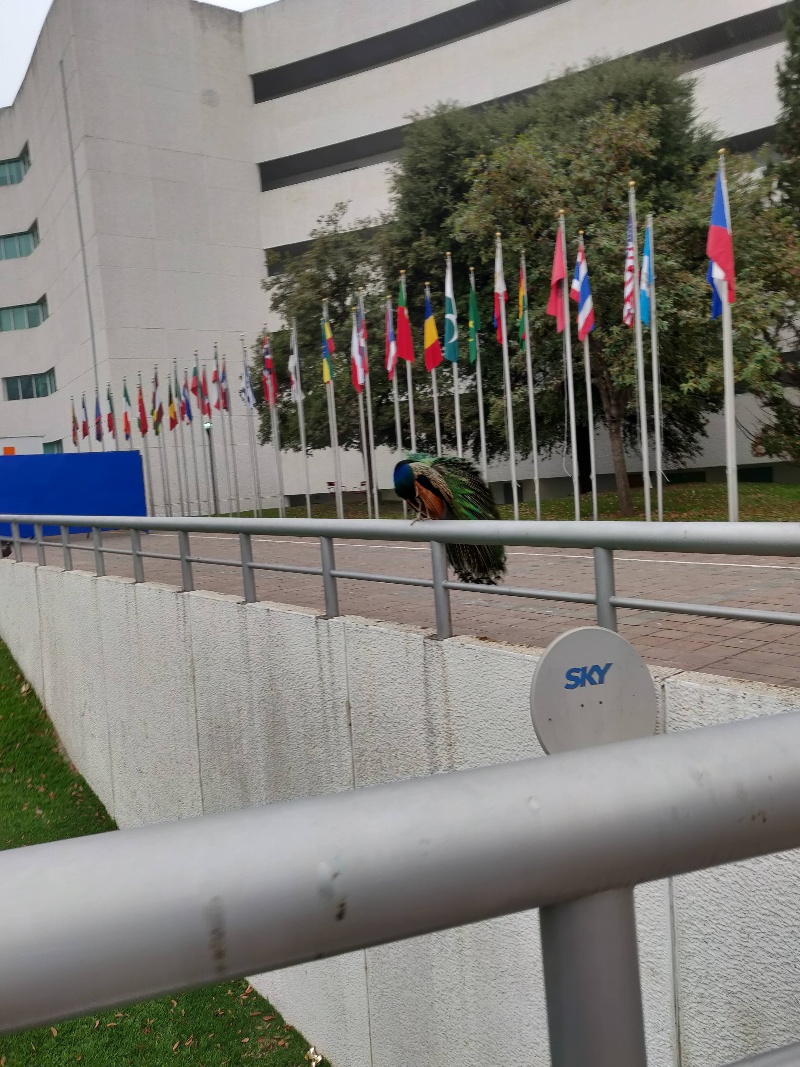pavoreal: (391, 452, 440, 521)
